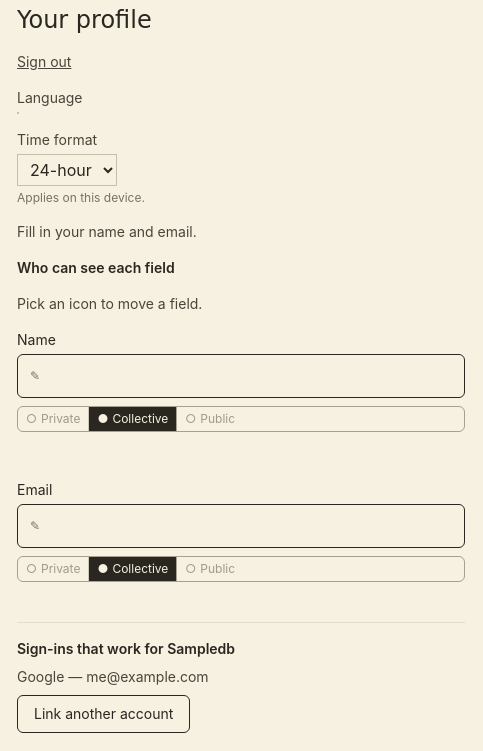
/profile — mint failures name their step (#193 review F2) › a mint failure at phase stale-invite-cleanup surfaces that step by name
The image size is (483, 751).
Expected: the element with test id "profile-field-name" is shown, [17,330,465,456]
Click the button with test id "profile-link-another" at x=104, y=714, box [17,695,190,733]
(page scrolled)
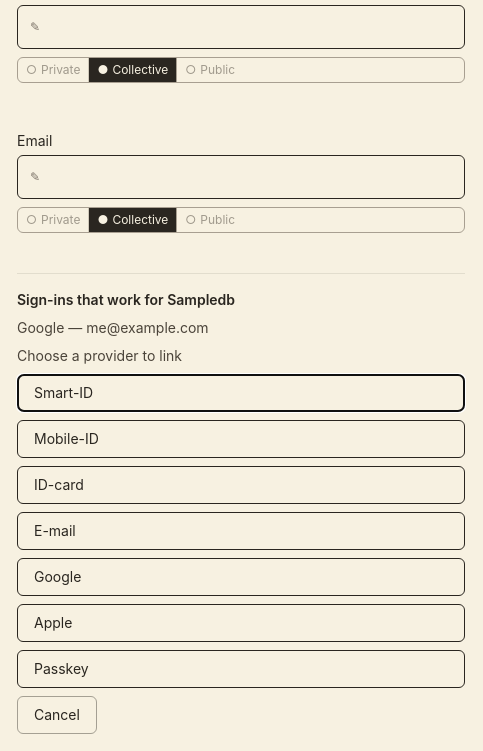
Result: the button with test id "profile-link-provider-apple" is shown
Click the button with test id "profile-link-provider-apple" at x=53, y=622, box [17,604,465,642]
(page scrolled)
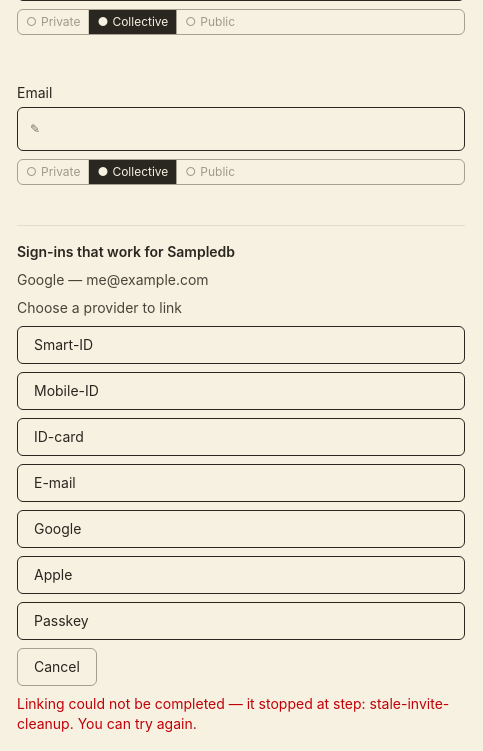
Result: the message with test id "profile-link-error" is shown at [17,694,465,734]
